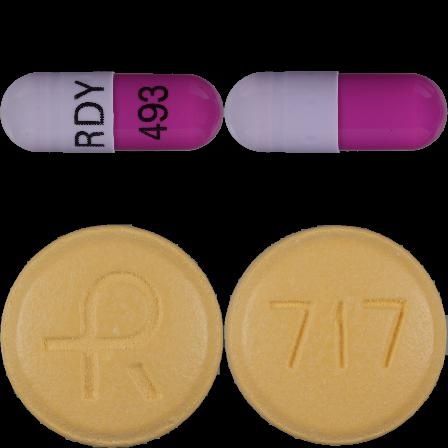61919-834: (0, 0, 224, 224)
